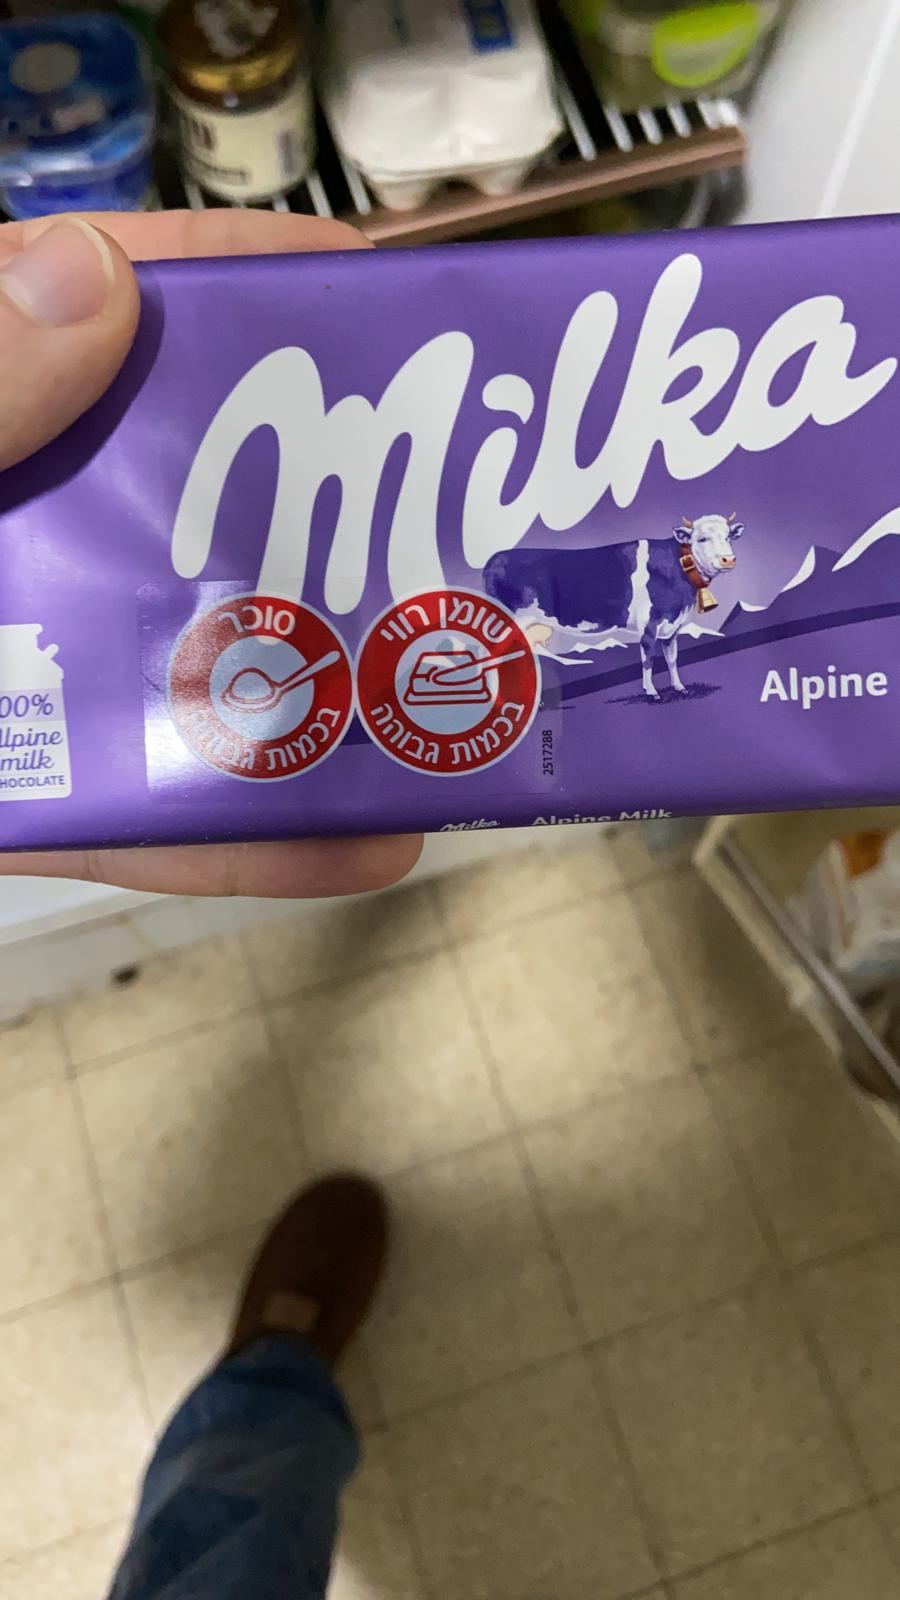fat: (354, 585, 542, 778)
sugar: (164, 591, 356, 786)
